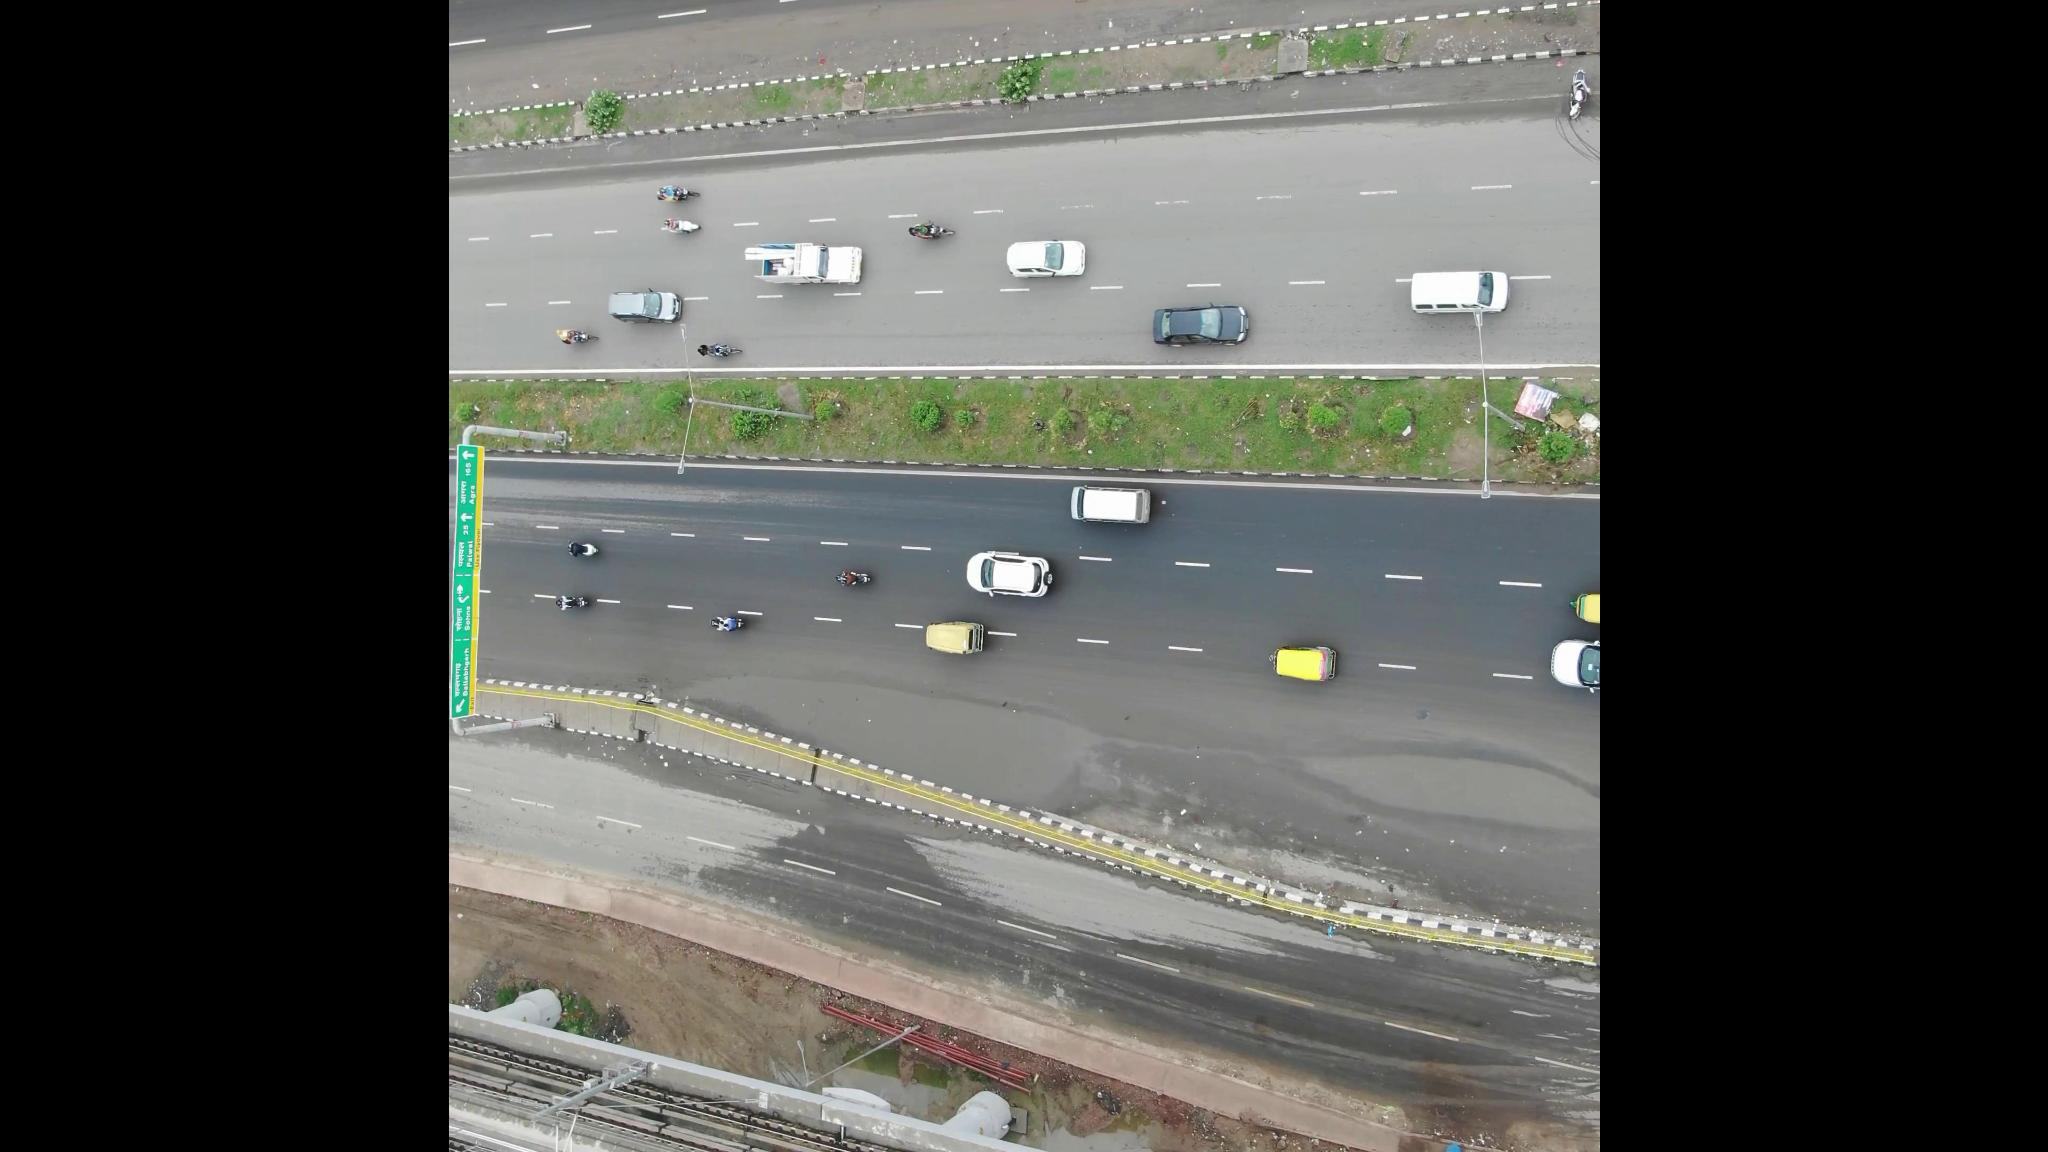Muddy_road: (685, 1, 933, 82), (466, 31, 684, 104), (949, 1, 1196, 52)
Potholes: (1272, 731, 1582, 845)
Waterlogging: (715, 675, 1110, 800)
